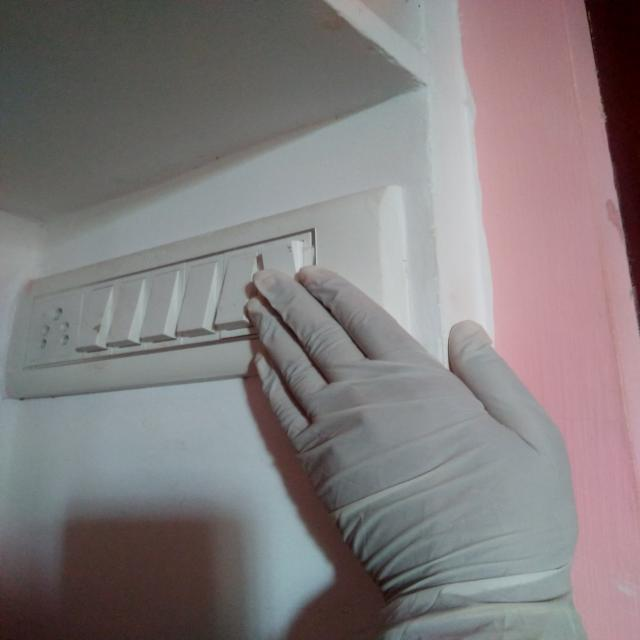glove: (244, 260, 606, 636)
